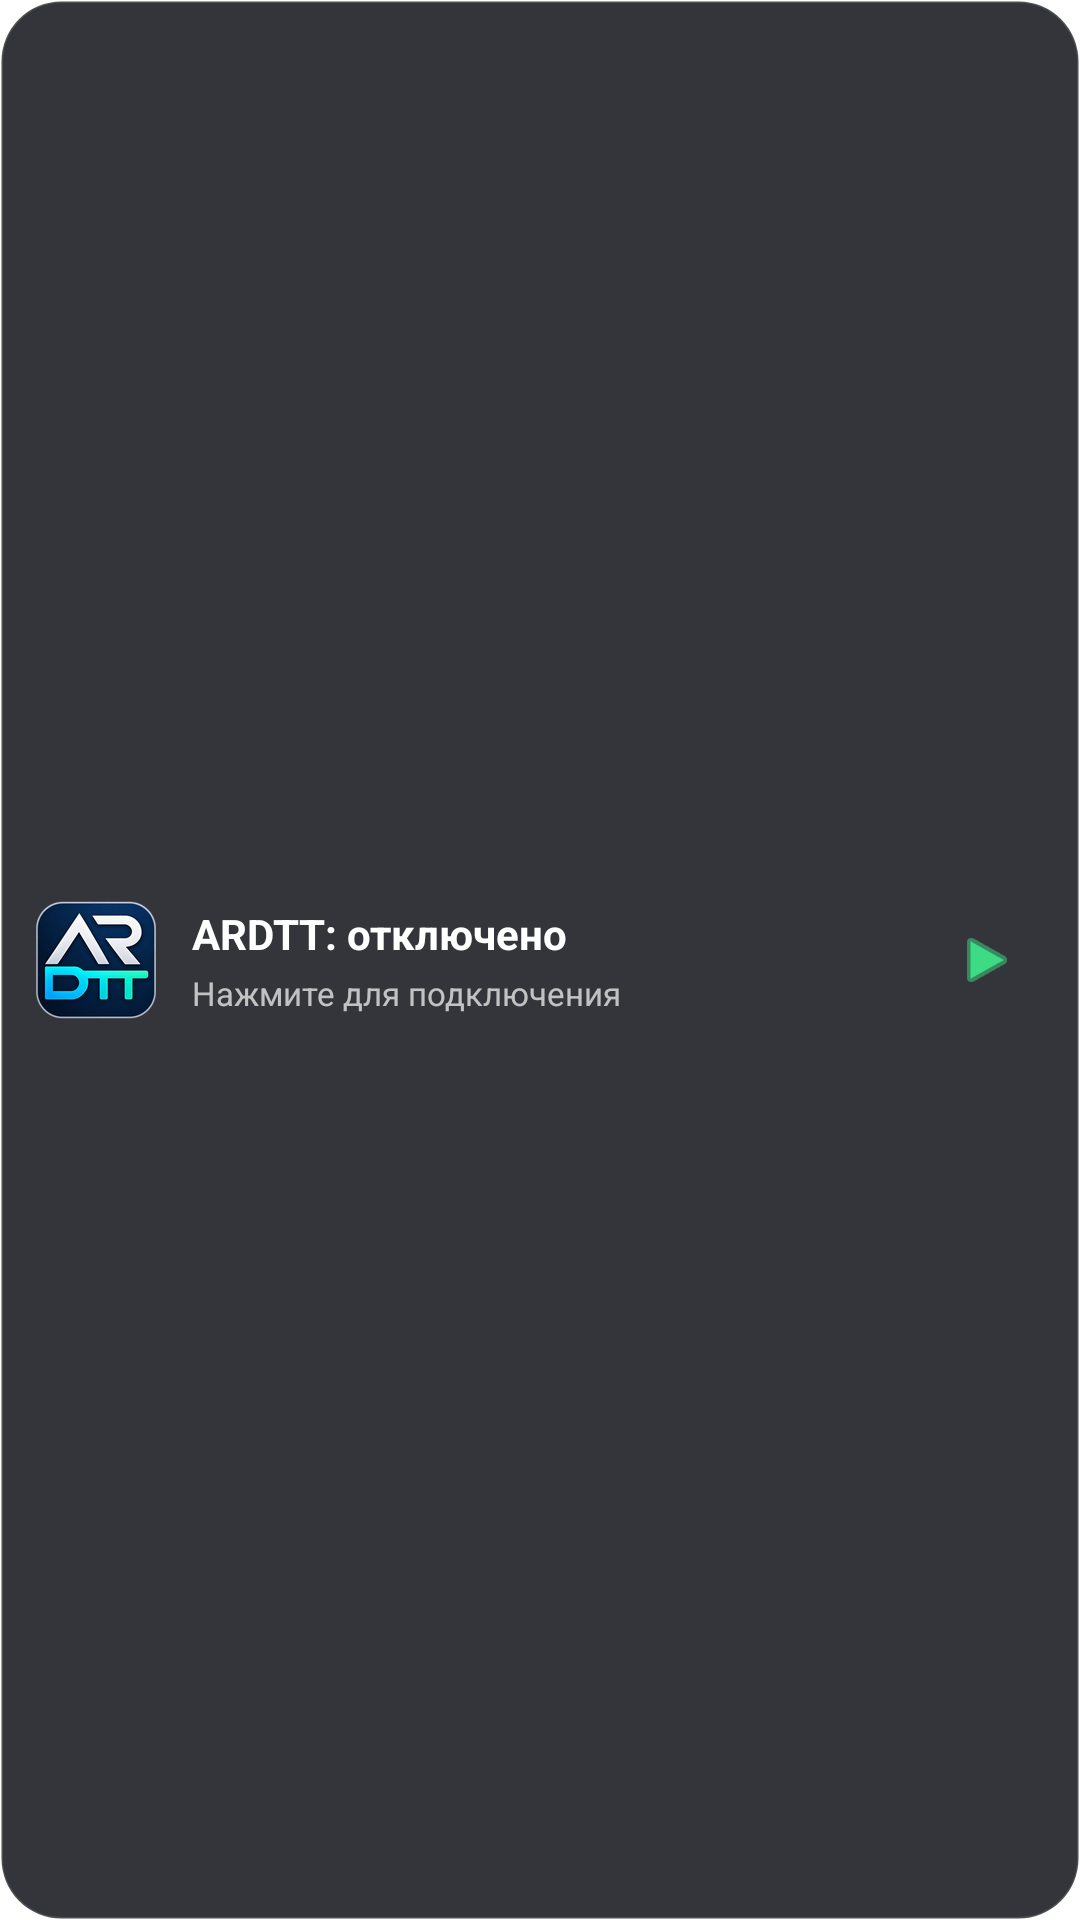

Point at icon controls on the screen. Image size 1080w x 1920h, points as point (x, y).
Подключить / отключить: point (987, 960)
